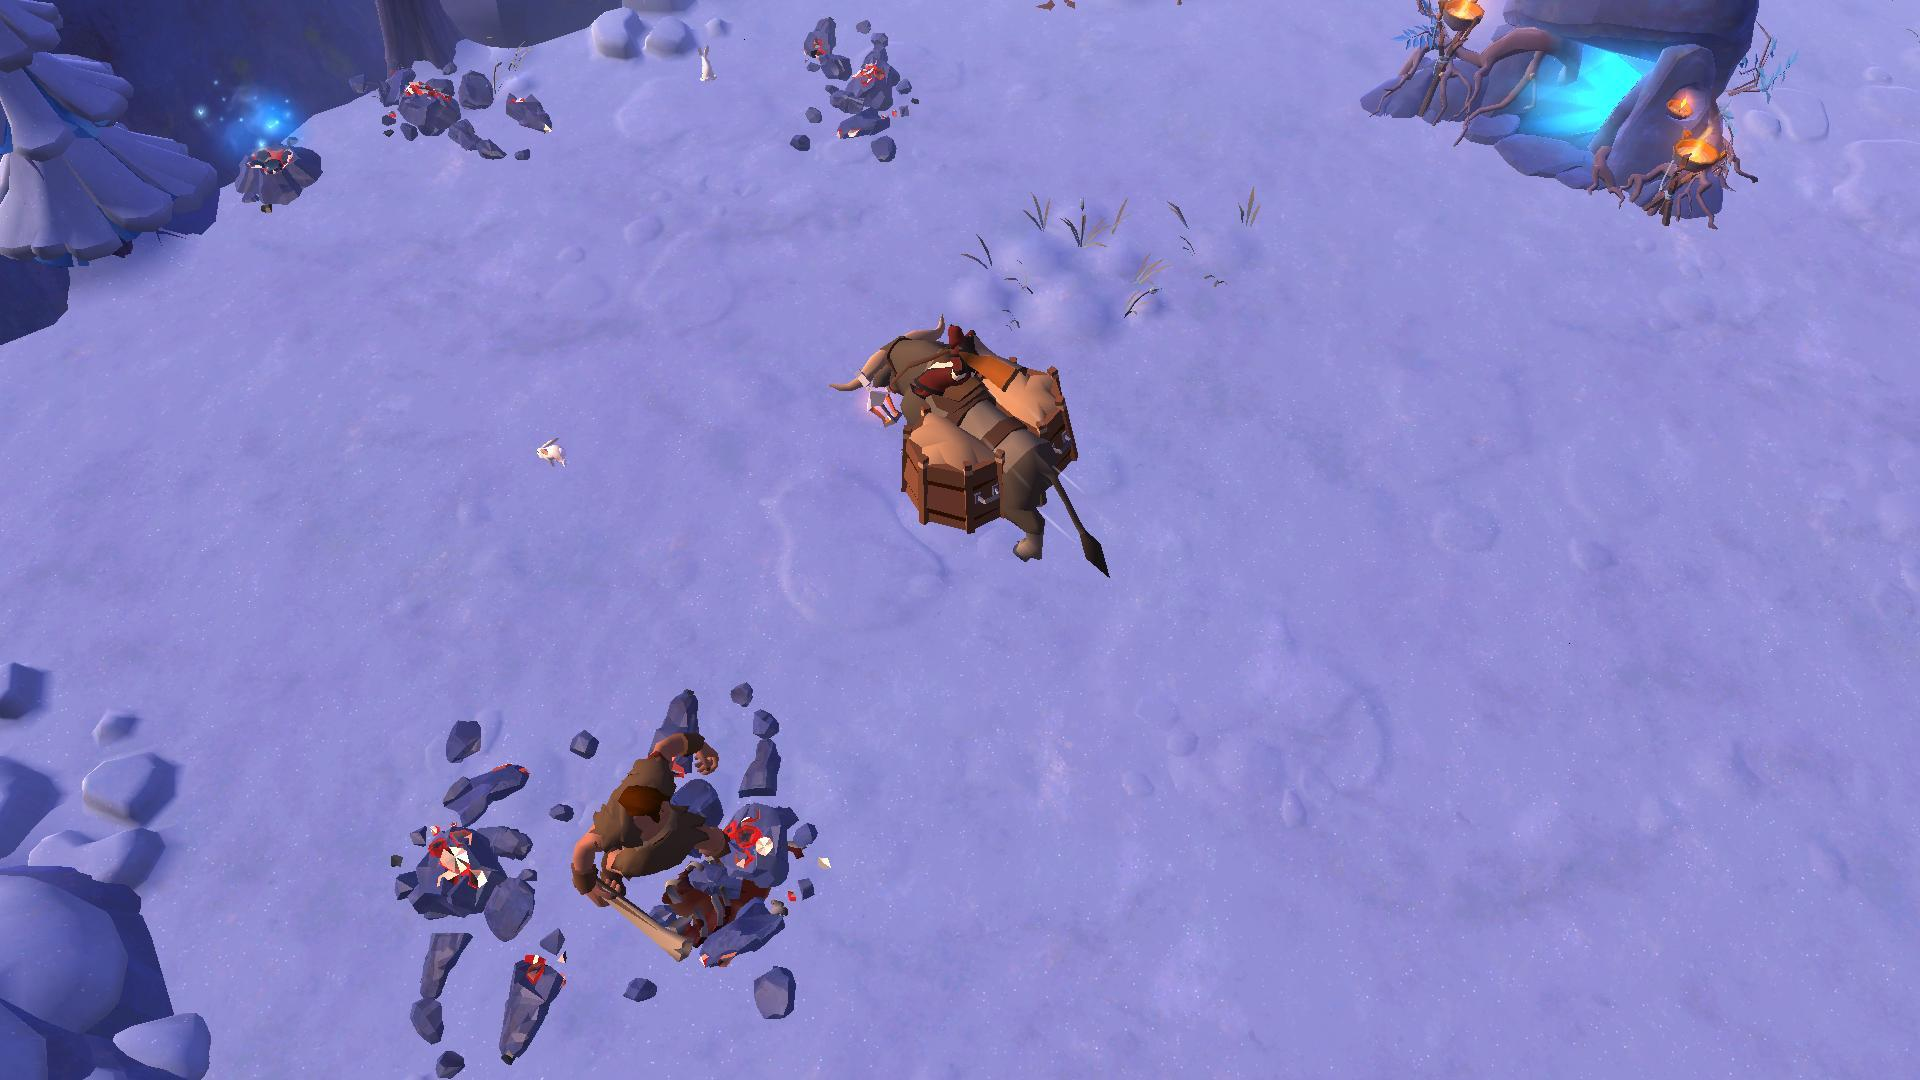enemy_factionKeeper: (579, 727, 732, 963)
